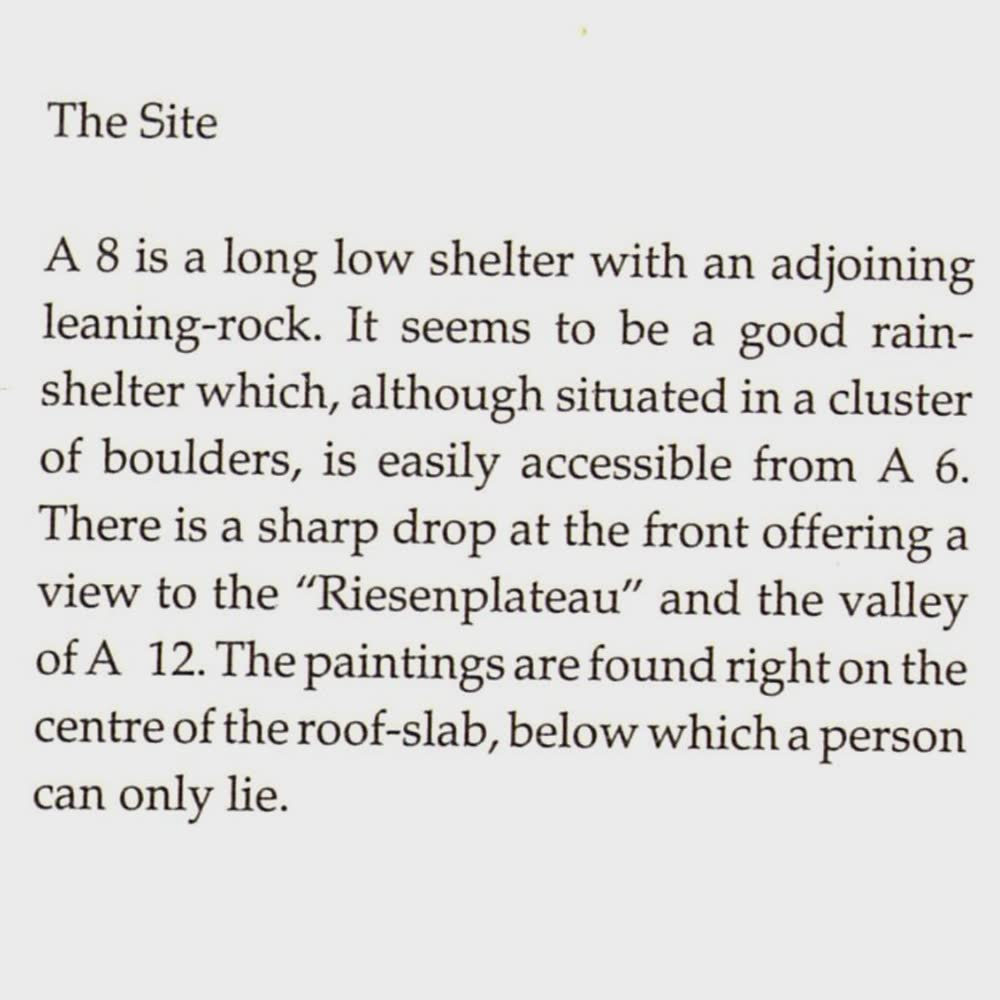text: (33, 96, 979, 845)
